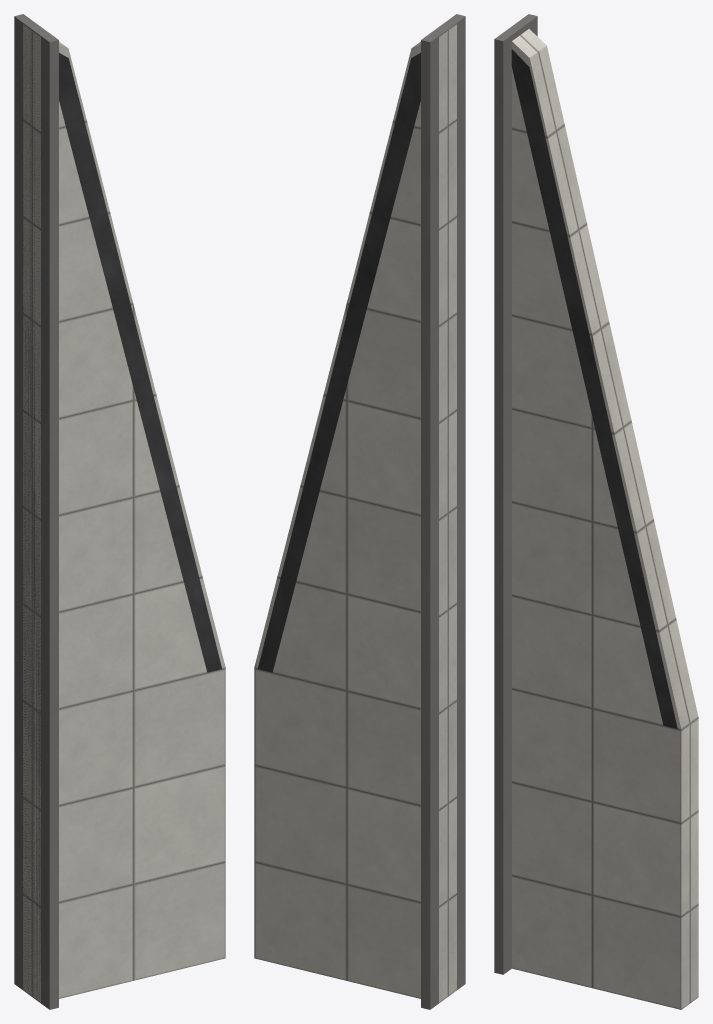
File: aero04_strake_s.glb
3 views of the same model, side by side, from view 1: azimuth 30°, elevation 25°; view 2: azimuth 150°, elevation 25°; view 3: azimuth 330°, elevation 25° (orthographic). The views are drawn at different scales.
Parts seen in each view (by area): view 1: strake, root_flange, leading_edge; view 2: strake, root_flange, leading_edge; view 3: strake, root_flange, leading_edge.
Boxes of the visible parts, x1,y1,x2,y2 form: strake: (23, 23, 225, 1003); root_flange: (14, 14, 58, 1009); leading_edge: (59, 53, 221, 672); strake: (254, 23, 456, 1003); root_flange: (421, 14, 465, 1009); leading_edge: (258, 53, 420, 672); strake: (512, 29, 698, 1009); root_flange: (494, 14, 537, 974); leading_edge: (511, 49, 677, 728).
Size of the model in its own units: 0.3 by 1.5 by 0.1.
3 materials, 3 textured.
